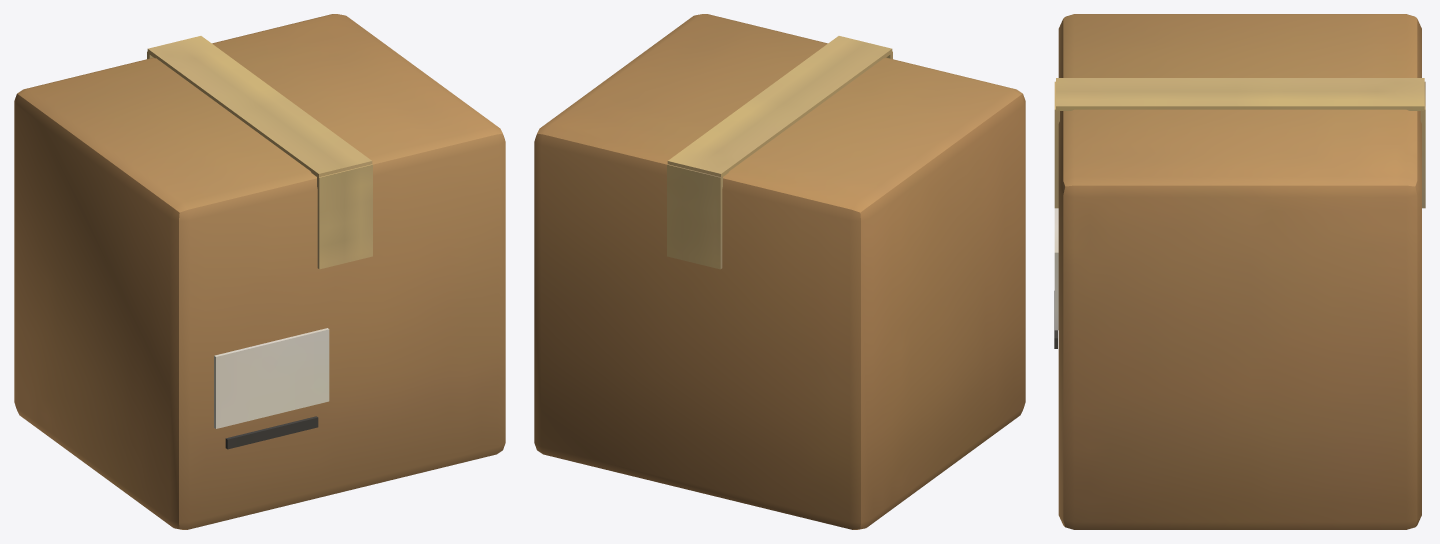
Rendered from box_small.glb.
The picture shows the model from 3 angles, left to right: view 1: azimuth 30°, elevation 25°; view 2: azimuth 150°, elevation 25°; view 3: azimuth 270°, elevation 25°; orthographic projection. The views are drawn at different scales.
Visible parts, largest first — view 1: box_small; view 2: box_small; view 3: box_small.
Part boxes in pixels (box(x1,y1,x2,y2)): box_small: box(14, 14, 505, 529); box_small: box(534, 14, 1025, 529); box_small: box(1054, 14, 1425, 529).
Size of the model in its own units: 0.32 by 0.303 by 0.2865.
Materials: 4 (4 with a texture image).
